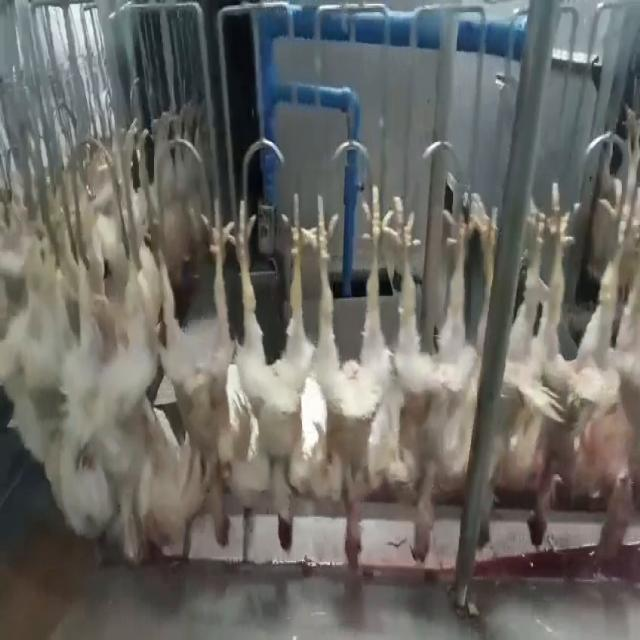chicken: (390, 175, 489, 574), (491, 176, 584, 559), (309, 182, 395, 569), (159, 201, 245, 548), (571, 167, 639, 531), (247, 186, 304, 555), (97, 210, 152, 568)
